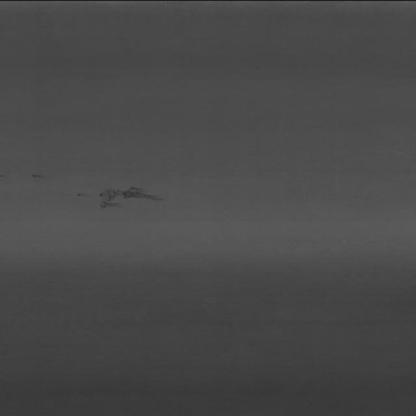water_spot: (77, 180, 176, 223)
